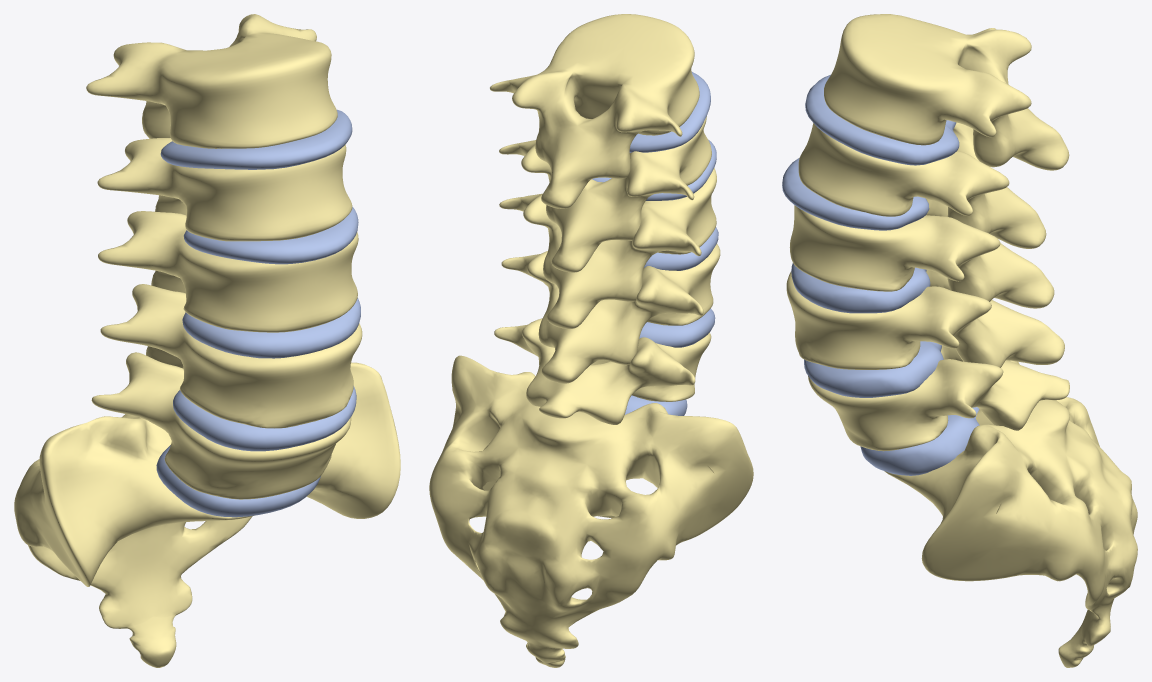
The model's file is Test_Two.fbx.
3 renders of one model, left to right at view 1: azimuth 30°, elevation 25°; view 2: azimuth 150°, elevation 25°; view 3: azimuth 270°, elevation 25°, orthographic. The views are drawn at different scales.
Visible parts, largest first — view 1: Male_Skeletal_L01, Male_XianYiGu, Male_Skeletal_L03, Male_Skeletal_L04, Male_Skeletal_L02, Male_Skeletal_L05, Male_S04, Male_S05, Male_S01, Male_Weizhui, Male_S02; view 2: Male_Skeletal_L01, Male_S01, Male_Skeletal_L04, Male_S03, Male_Skeletal_L03, Male_Skeletal_L02, Male_Skeletal_L05, Male_S02, Male_XianYiGu, Male_S04, Male_S05, Male_Weizhui; view 3: Male_Skeletal_L01, Male_Skeletal_L04, Male_Skeletal_L03, Male_Skeletal_L02, Male_Skeletal_L05, Male_S01, Male_XianYiGu, Male_S02, Male_S03, Male_S04, Male_Weizhui, Male_S05.
Boxes of the visible parts, x1,y1,x2,y2 form: Male_Skeletal_L01: (86,14,352,169); Male_XianYiGu: (39,362,400,586); Male_Skeletal_L03: (98,211,360,358); Male_Skeletal_L04: (100,284,362,451); Male_Skeletal_L02: (97,138,358,264); Male_Skeletal_L05: (91,352,351,517); Male_S04: (28,516,252,593); Male_S05: (99,571,192,628); Male_S01: (28,414,357,585); Male_Weizhui: (127,614,176,667); Male_S02: (14,459,50,549); Male_Skeletal_L01: (490,14,710,208); Male_S01: (439,377,725,545); Male_Skeletal_L04: (501,244,720,383); Male_S03: (429,488,674,582); Male_Skeletal_L03: (499,168,718,329); Male_Skeletal_L02: (499,116,716,272); Male_Skeletal_L05: (494,318,711,424); Male_S02: (429,447,679,554); Male_XianYiGu: (451,355,753,522); Male_S04: (441,533,643,629); Male_S05: (500,612,578,648); Male_Weizhui: (526,641,565,667); Male_Skeletal_L01: (805,14,1069,170); Male_Skeletal_L04: (786,269,1064,397); Male_Skeletal_L03: (789,198,1054,313); Male_Skeletal_L02: (782,122,1046,248); Male_Skeletal_L05: (808,345,1069,475); Male_S01: (954,361,1082,581); Male_XianYiGu: (884,360,1017,580); Male_S02: (1038,398,1114,581); Male_S03: (1066,429,1137,589); Male_S04: (1085,515,1137,619); Male_Weizhui: (1058,624,1093,667); Male_S05: (1082,610,1110,646).
Bounding box in the file's own units: 12.21 × 23.56 × 11.97.
